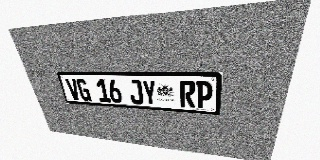1: (95, 79, 111, 102)
6: (106, 79, 123, 103)
G: (75, 78, 92, 101)
J: (128, 79, 144, 104)
P: (196, 81, 213, 109)
R: (180, 80, 196, 108)
V: (65, 78, 81, 100)
Y: (141, 80, 157, 105)
